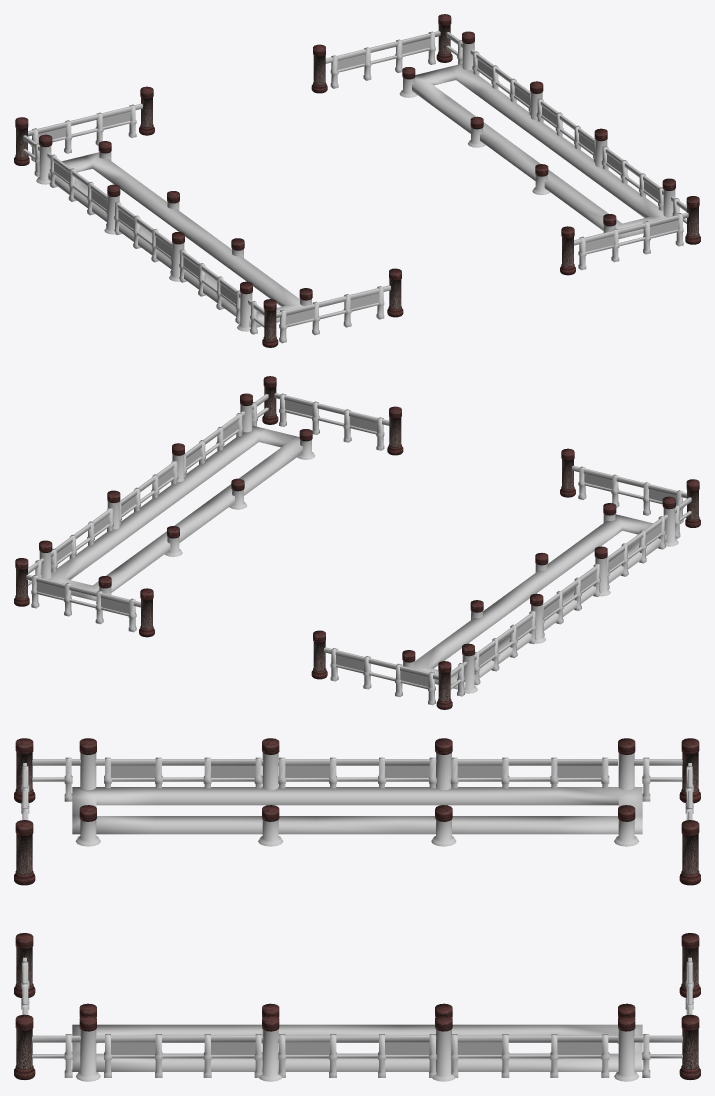
File: SM_InnerRail.FBX
3 renders of one model, top to bottom at view 1: azimuth 30°, elevation 25°; view 2: azimuth 150°, elevation 25°; view 3: azimuth 270°, elevation 25°, orthographic. The views are drawn at different scales.
Visible parts, largest first — view 1: SM_InnerRail; view 2: SM_InnerRail; view 3: SM_InnerRail.
Part boxes in pixels (bbox=[...]): SM_InnerRail: bbox=[14, 14, 700, 347]; SM_InnerRail: bbox=[14, 376, 700, 709]; SM_InnerRail: bbox=[14, 738, 700, 1081].
Size of the model in its own units: 1871 by 1890 by 184.
